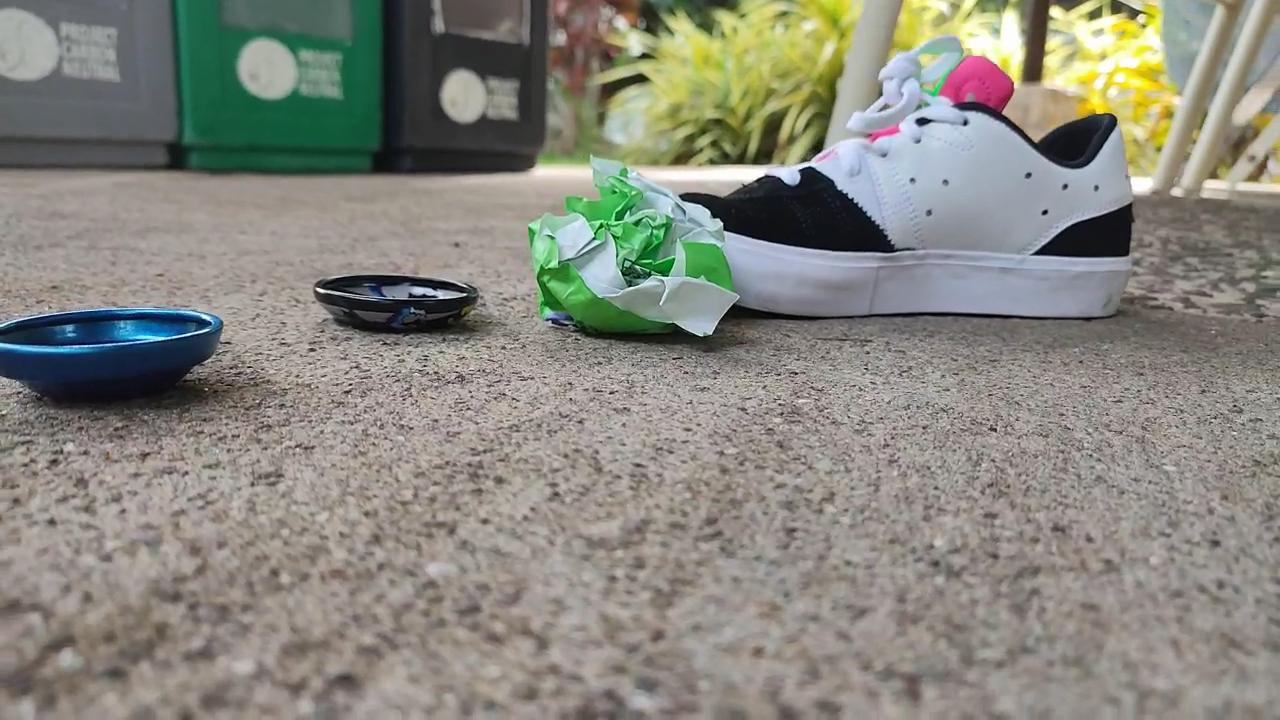Paper: (514, 147, 750, 354)
